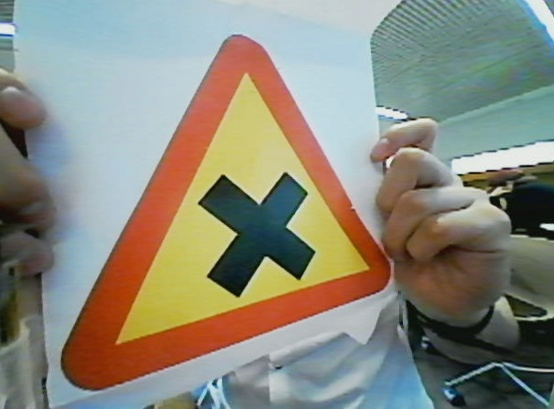junction: (53, 41, 436, 397)
